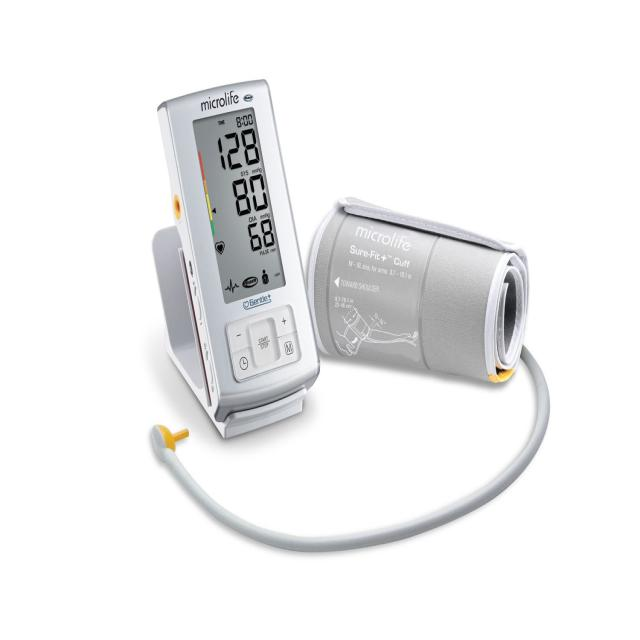dia: (224, 169, 273, 225)
pul: (240, 212, 281, 258)
ssd: (192, 106, 288, 306)
sys: (210, 123, 263, 178)
